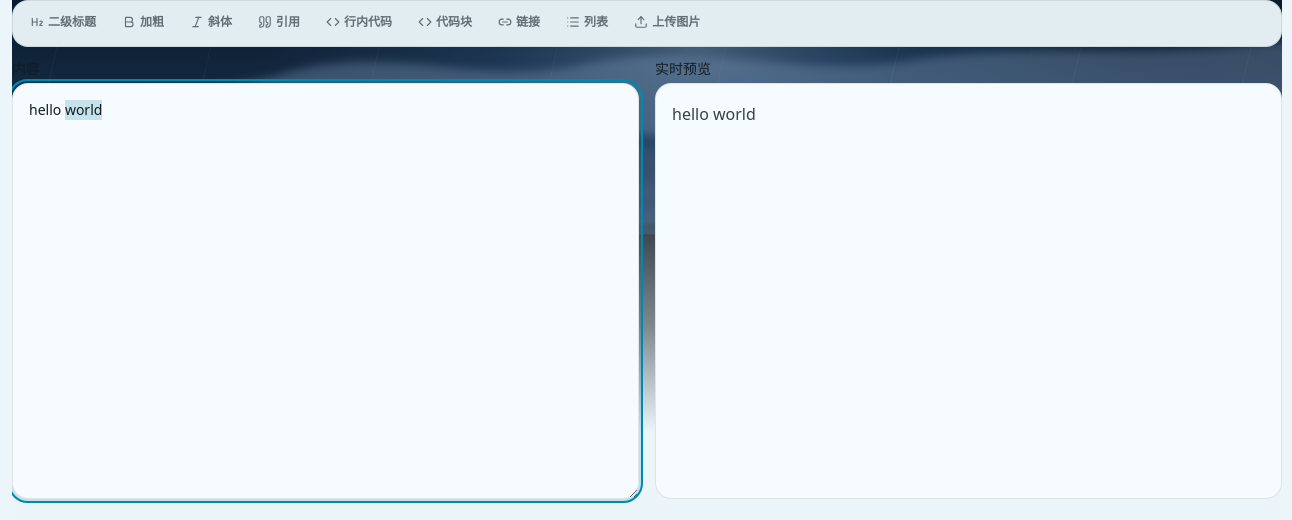
Scenario: markdown editor › wraps the selected text with bold markers and restores the selection
The image size is (1292, 520).
Click the button "加粗" at (143,24), box left=113, top=9, right=173, bottom=38
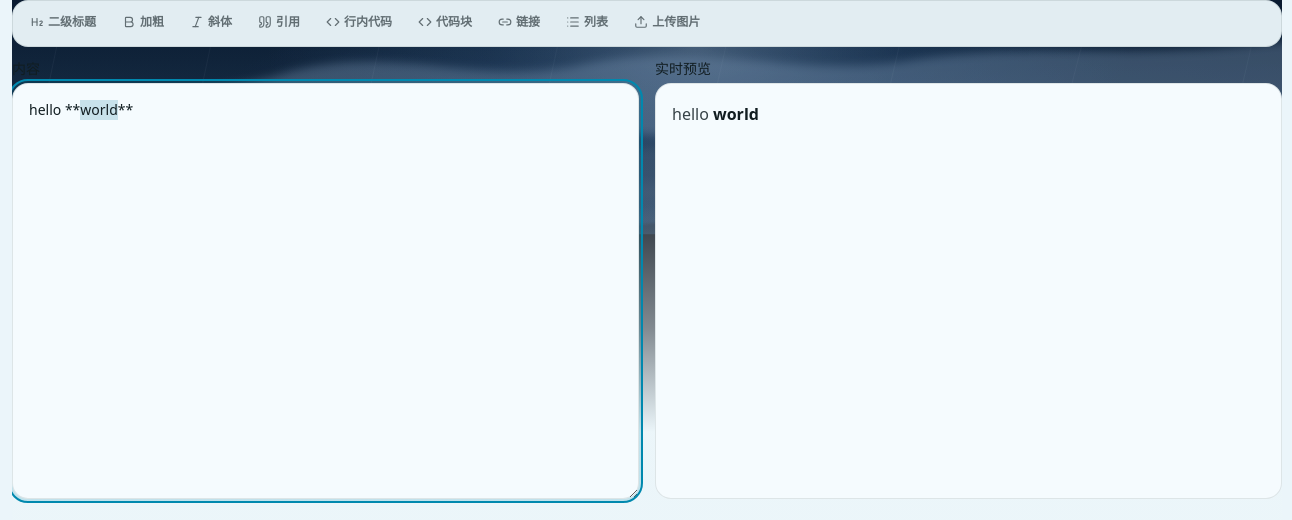
Result: the text box holds "hello **world**" at left=12, top=83, right=639, bottom=499
